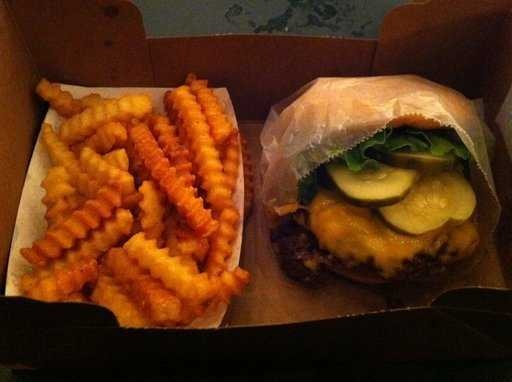hamburger: (278, 68, 484, 297)
